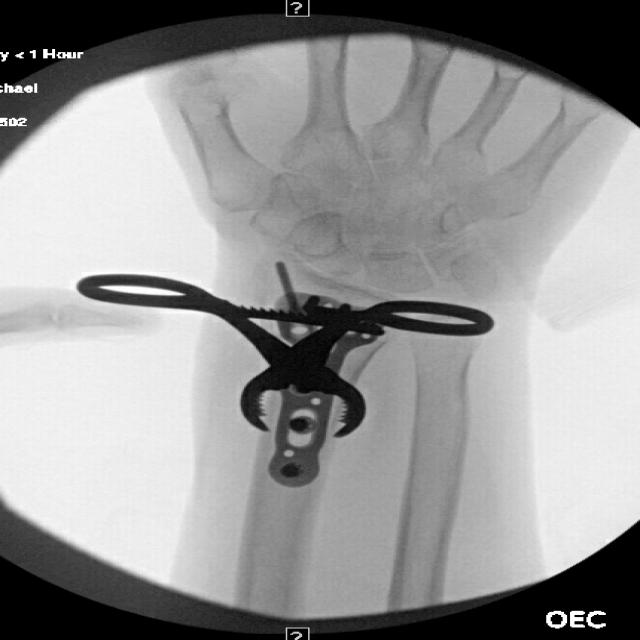x-ray: (247, 252, 378, 504)
